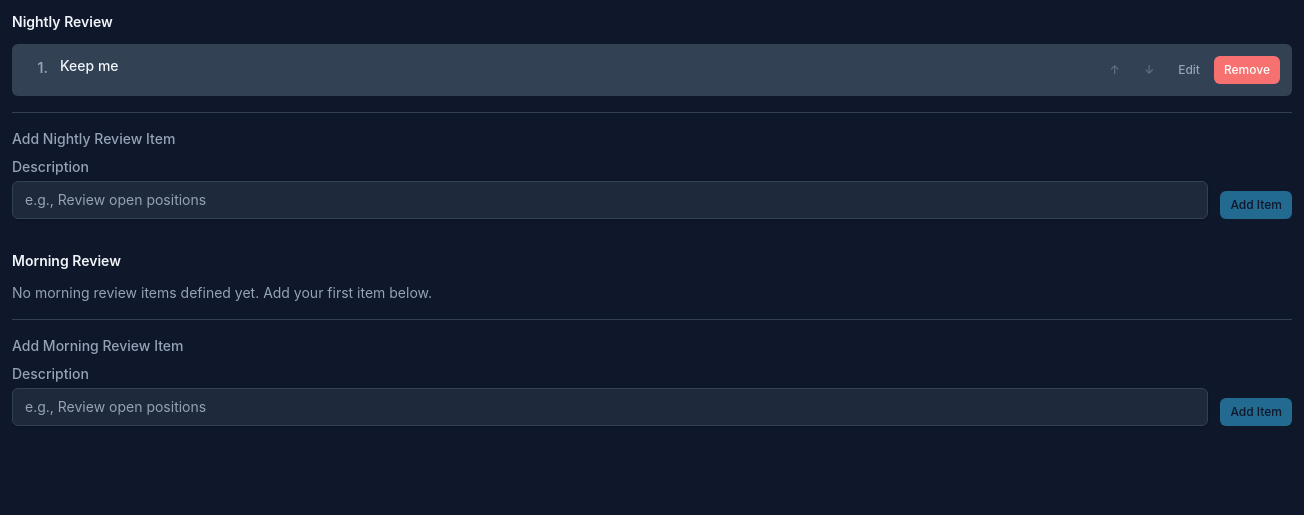
Test: DailyManagementSection › cancels edit without saving
This screenshot has width=1304, height=515.
Click the button with aria-label "edit item: keep me": click(1189, 70) [1168,56,1210,84]
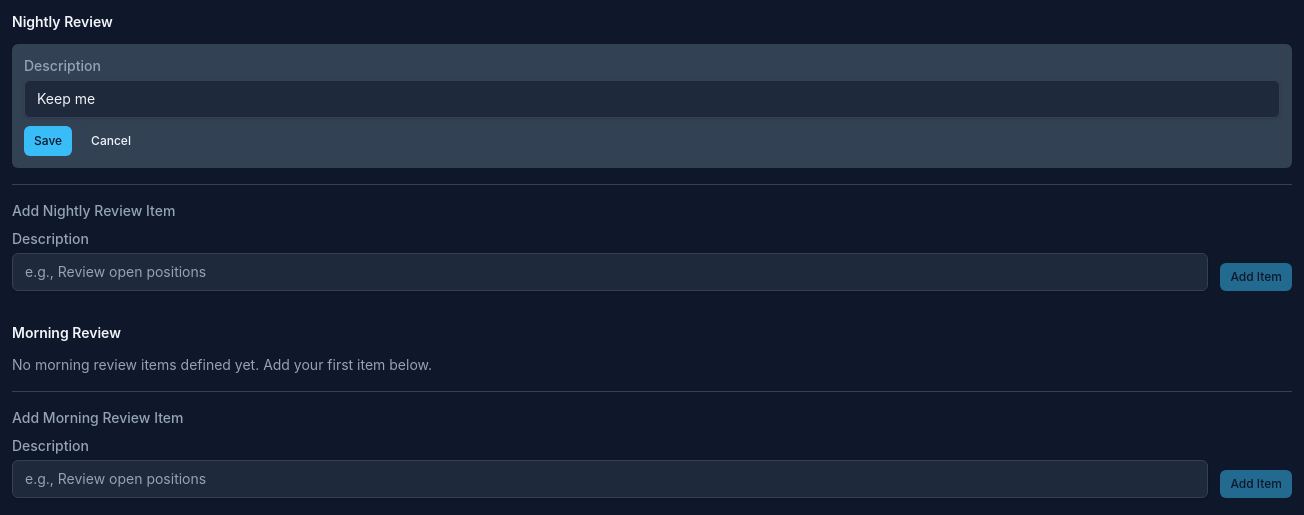
Click the button "Cancel": click(111, 141) [80,126,142,156]
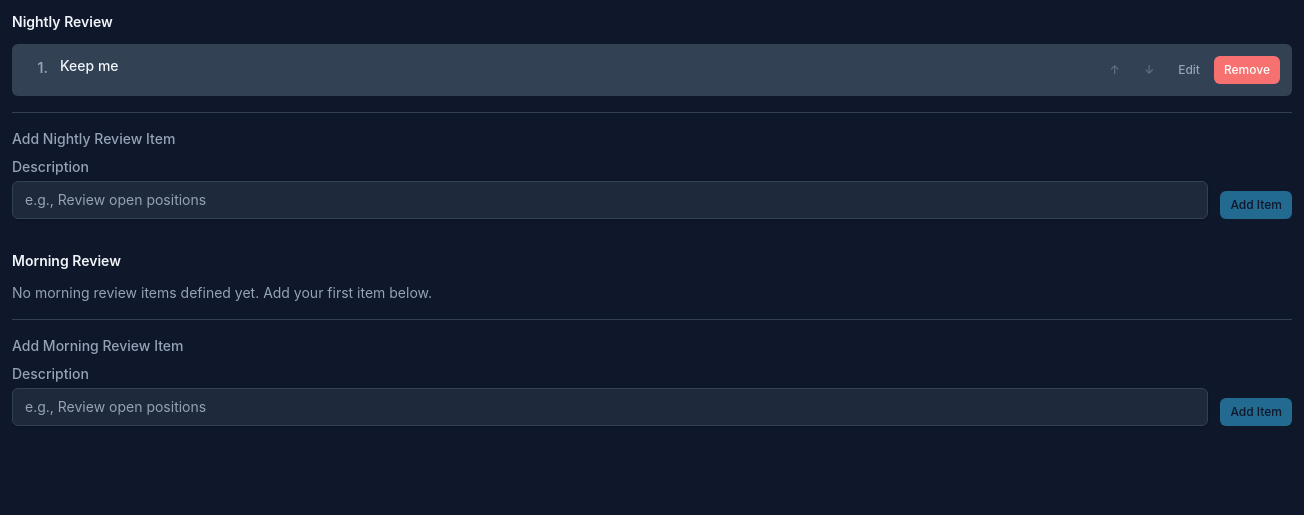
expect the text "Keep me" is shown: met, box [60,57,119,74]
